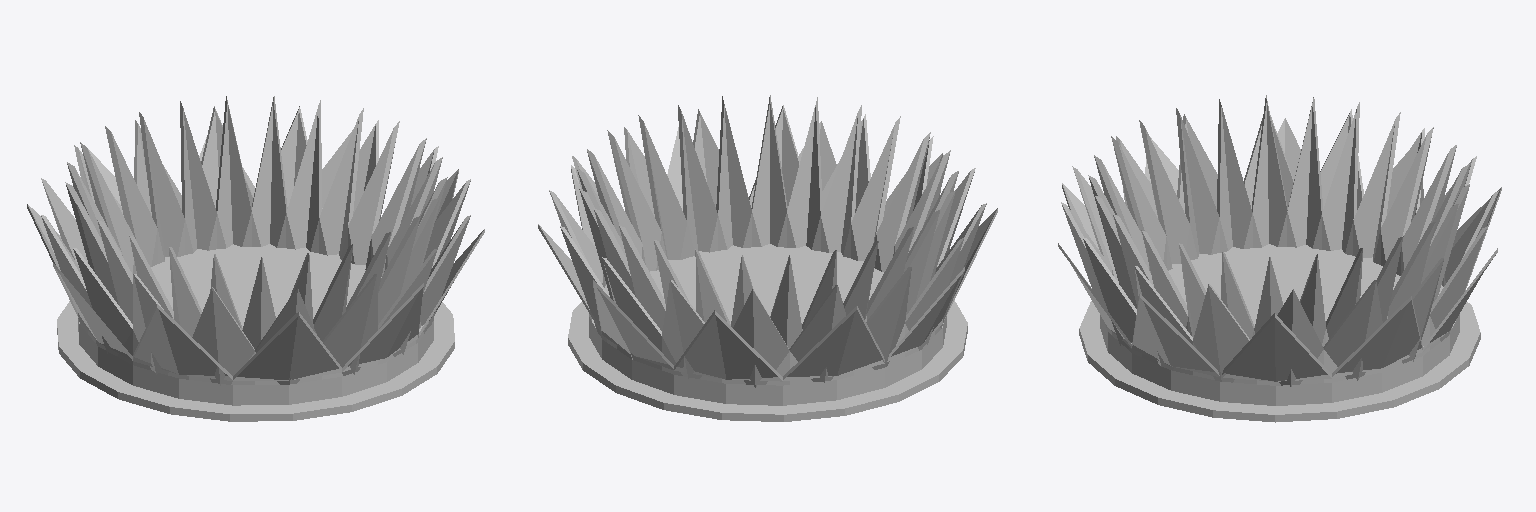
File: portal_abrir_000045.obj
3 renders of one model, left to right at view 1: azimuth 30°, elevation 25°; view 2: azimuth 150°, elevation 25°; view 3: azimuth 270°, elevation 25°, orthographic.
Parts seen in each view (by area): view 1: Cylinder.001, pCylinder1, Cylinder; view 2: Cylinder.001, pCylinder1, Cylinder; view 3: Cylinder.001, pCylinder1, Cylinder.
Boxes of the visible parts, <box> form: Cylinder.001: <box>65,96,447,348</box>; pCylinder1: <box>27,129,484,421</box>; Cylinder: <box>41,106,470,385</box>; Cylinder.001: <box>577,95,958,348</box>; pCylinder1: <box>538,121,997,421</box>; Cylinder: <box>549,105,986,387</box>; Cylinder.001: <box>1088,95,1469,346</box>; pCylinder1: <box>1058,118,1501,422</box>; Cylinder: <box>1061,109,1498,386</box>.
Bounding box in the file's own units: 7.3 × 2.85 × 7.